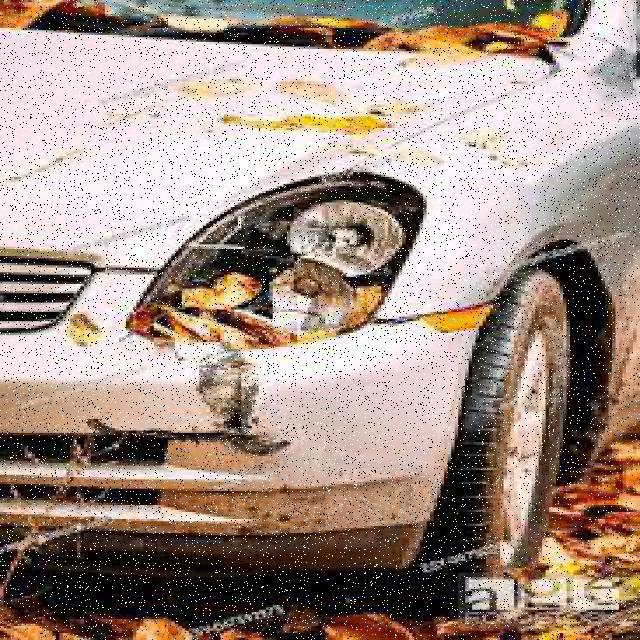front-bumper-dent: (0, 321, 524, 580)
